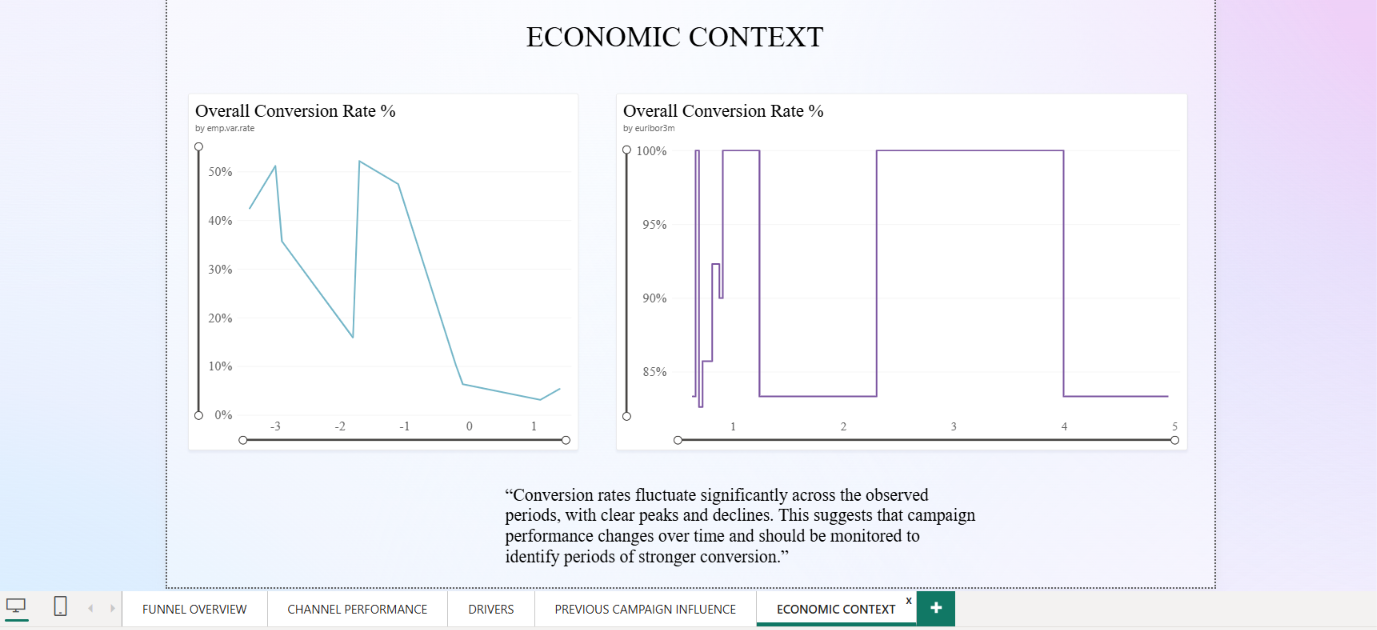

The page's visual inventory and layout, read from the dashboard file:
{"tool":"powerbi","page":{"name":"ECONOMIC CONTEXT","canvas":[1920,1080],"ordinal":4},"visuals":[{"type":"lineChart","fields":{"Category":["cleaned_bank_marketing.emp.var.rate"],"Y":["channel_summary.Overall Conversion Rate %"]},"box":[39.1,175,716.3,654.5],"z":0},{"type":"lineChart","fields":{"Category":["cleaned_bank_marketing.euribor3m"],"Y":["channel_summary.Overall Conversion Rate %"]},"box":[823.3,175,1047.7,654.5],"z":1},{"type":"textbox","box":[619.6,891.3,864.5,150.3],"z":2},{"type":"textbox","box":[658.7,41.2,601,119.4],"z":3}]}

Visuals, with their boxes on the page's 1920x1080 design canvas (x1, y1, x2, y2). These are canvas units, not pixel positions in the 1377x630 screenshot, which may show the page scaled, cropped or inside an application window:
lineChart - cleaned_bank_marketing.emp.var.rate x channel_summary.Overall Conversion Rate %: bbox=(39, 175, 755, 830)
lineChart - cleaned_bank_marketing.euribor3m x channel_summary.Overall Conversion Rate %: bbox=(823, 175, 1871, 830)
textbox: bbox=(620, 891, 1484, 1042)
textbox: bbox=(659, 41, 1260, 161)
